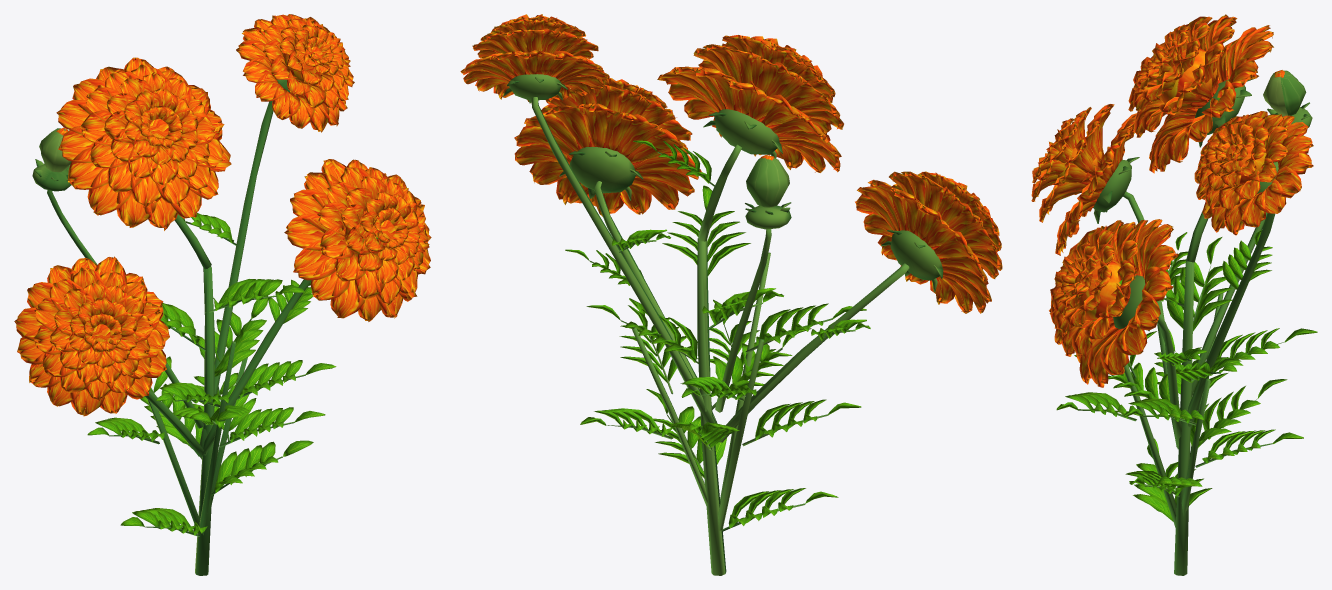
File: NP_Marigold_Ready.fbx
3 renders of one model, left to right at view 1: azimuth 30°, elevation 25°; view 2: azimuth 150°, elevation 25°; view 3: azimuth 270°, elevation 25°, orthographic. The views are drawn at different scales.
Visible parts, largest first — view 1: NP_Marigold_Ready; view 2: NP_Marigold_Ready; view 3: NP_Marigold_Ready.
Boxes of the visible parts, box(x1,y1,x2,y2) form: NP_Marigold_Ready: box(14, 14, 431, 575); NP_Marigold_Ready: box(460, 14, 1002, 575); NP_Marigold_Ready: box(1031, 14, 1317, 575).
Bounding box in the file's own units: 64.95 × 74.91 × 36.88.
